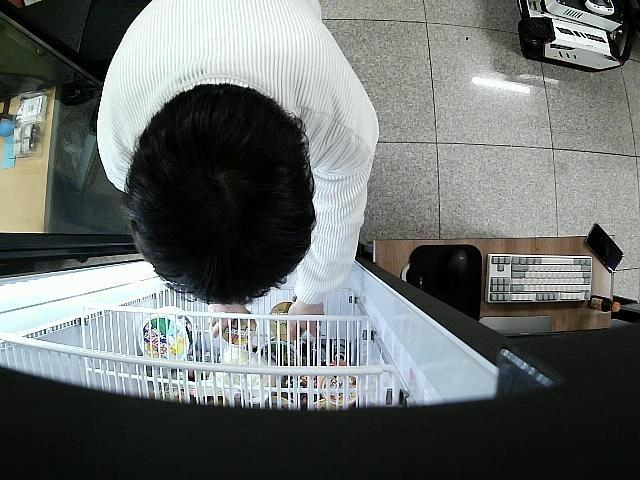04_chapagetti_S: (269, 302, 304, 341), (220, 312, 259, 345)
